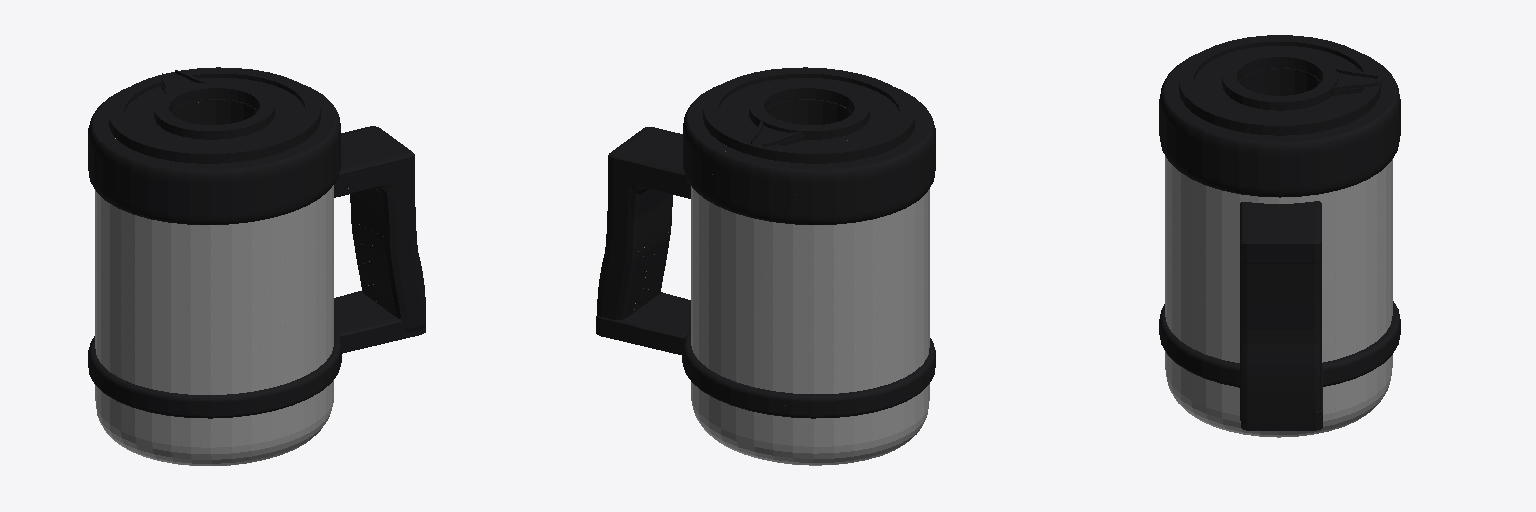
3 renders of one model, left to right at view 1: azimuth 30°, elevation 25°; view 2: azimuth 150°, elevation 25°; view 3: azimuth 270°, elevation 25°, orthographic.
Visible parts, largest first — view 1: polySurface49; view 2: polySurface49; view 3: polySurface49.
Boxes of the visible parts, box(x1,y1,x2,y2) form: polySurface49: box(88, 67, 425, 465); polySurface49: box(596, 67, 935, 465); polySurface49: box(1159, 35, 1400, 437).
Bounding box in the file's own units: 0.2945 × 0.2935 × 0.2013.
2 materials, 2 textured.